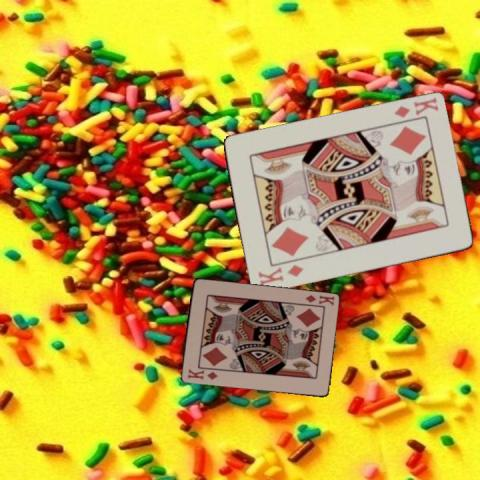Kd: (255, 262, 304, 288), (391, 95, 440, 120), (185, 366, 219, 381), (302, 292, 335, 307)
